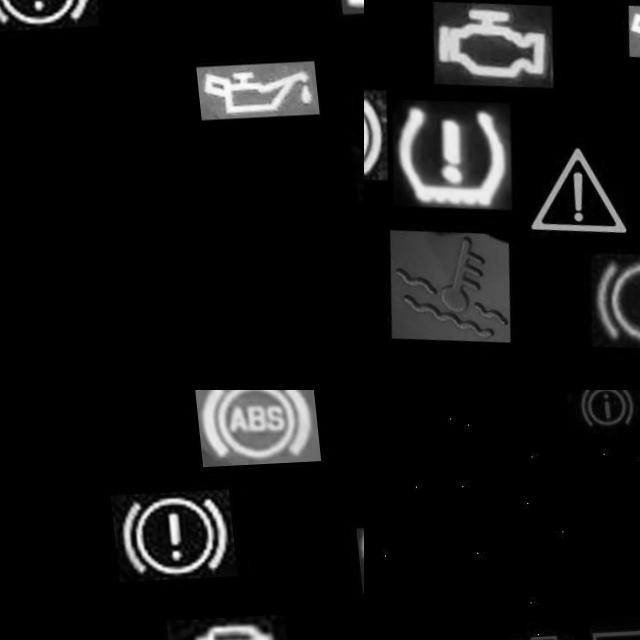Central Warning lamp: (499, 128, 637, 261)
Engine cooling system: (370, 228, 506, 351), (338, 87, 364, 210)
